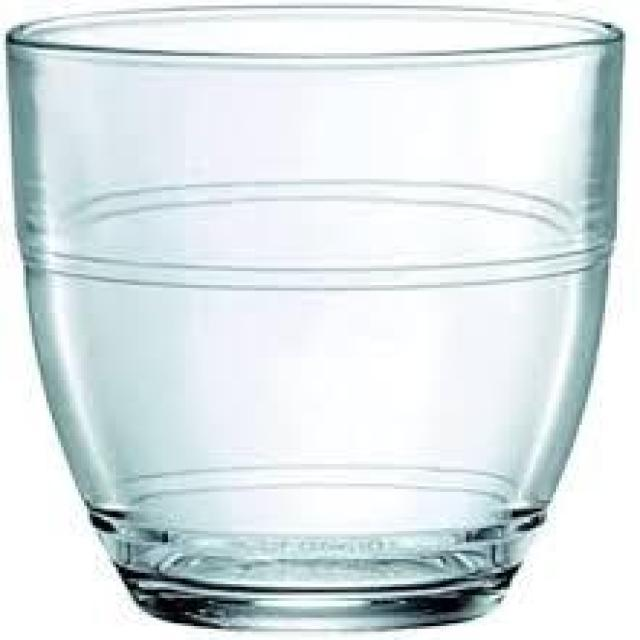Glass: (6, 0, 628, 632)
